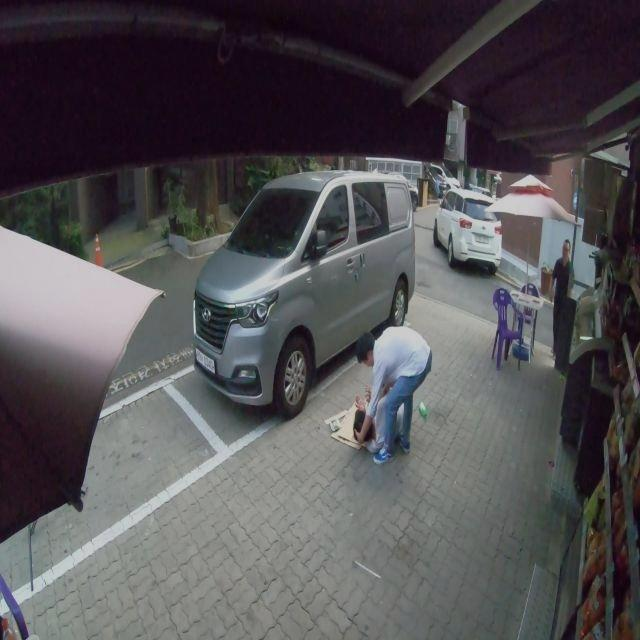fight: (349, 324, 432, 461)
non-fight: (550, 240, 576, 370)
